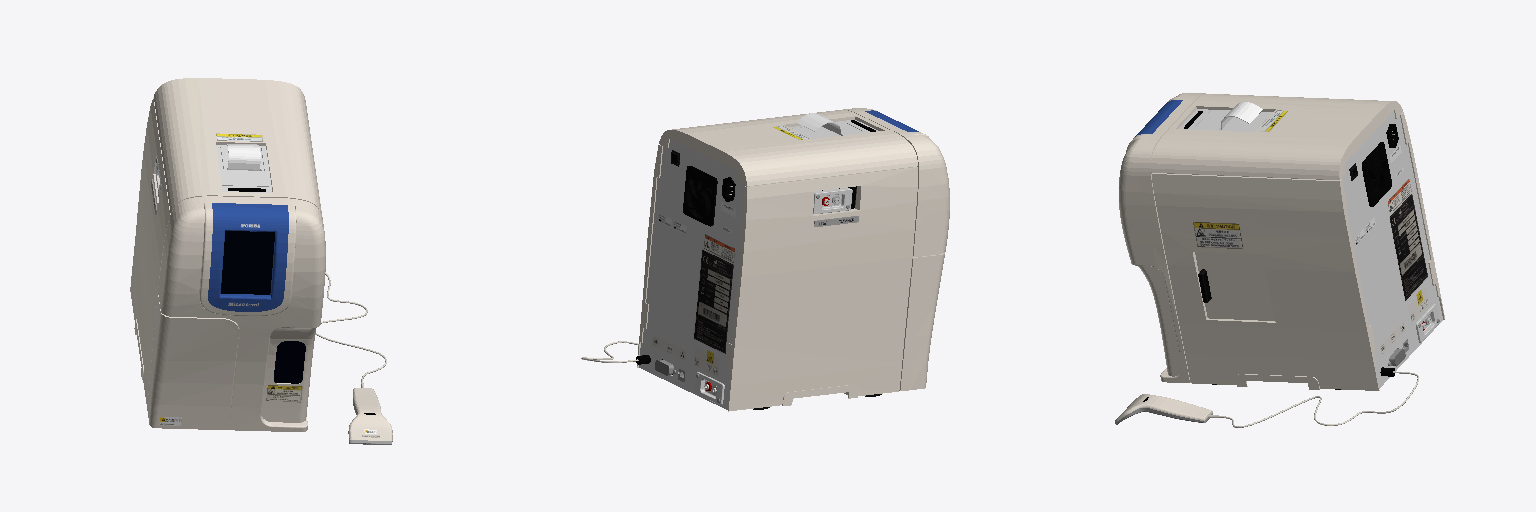
3 views of the same model, side by side, from view 1: azimuth 30°, elevation 25°; view 2: azimuth 150°, elevation 25°; view 3: azimuth 270°, elevation 25° (orthographic).
Parts seen in each view (by area): view 1: Microsemi_Base, Microsemi_LED; view 2: Microsemi_Base, Microsemi_Metal; view 3: Microsemi_Base, Microsemi_Metal.
Part boxes in pixels (x1,y1,x2,y2): Microsemi_Base: (130,78,392,444); Microsemi_LED: (221,231,305,383); Microsemi_Base: (581,108,949,411); Microsemi_Metal: (639,139,748,409); Microsemi_Base: (1115,93,1444,427); Microsemi_Metal: (1341,111,1442,388).
Bounding box in the file's own units: 13.02 × 13.13 × 13.78.
Materials: 3 (1 with a texture image).